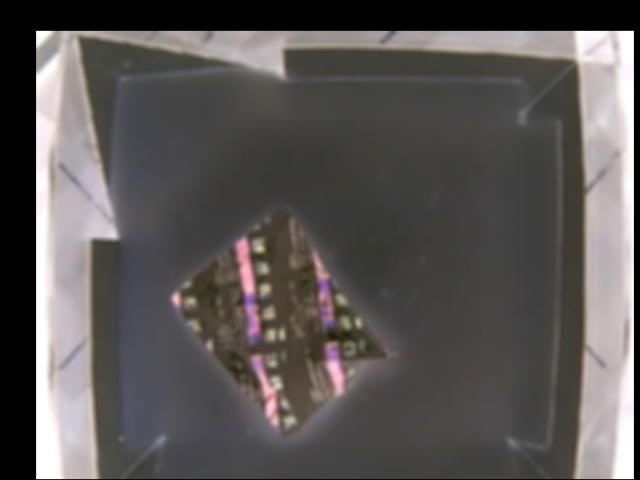Medicine: (170, 204, 402, 437)
